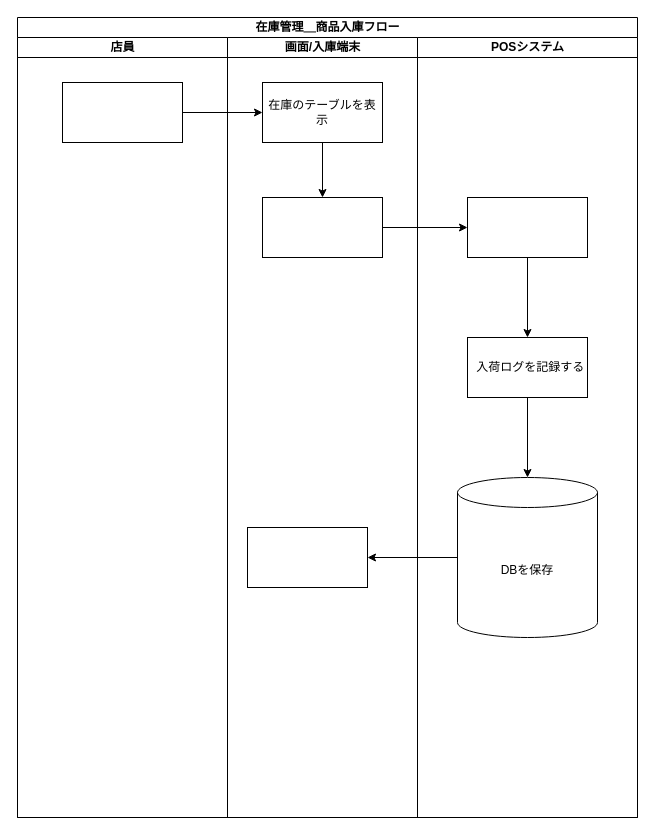
The diagram is 655 pixels wide and 835 high, and some of its shapes have lost their labels. The shapes that lost their labels are listed below. From the top down, each one's centre as x and y in pixels, then its label:
At [122,112]: "在庫ボタンを押下".
At [322,227]: "商品情報を入力する".
At [527,227]: "在庫数を計算する".
At [307,557]: "入荷完了メッセージ".
